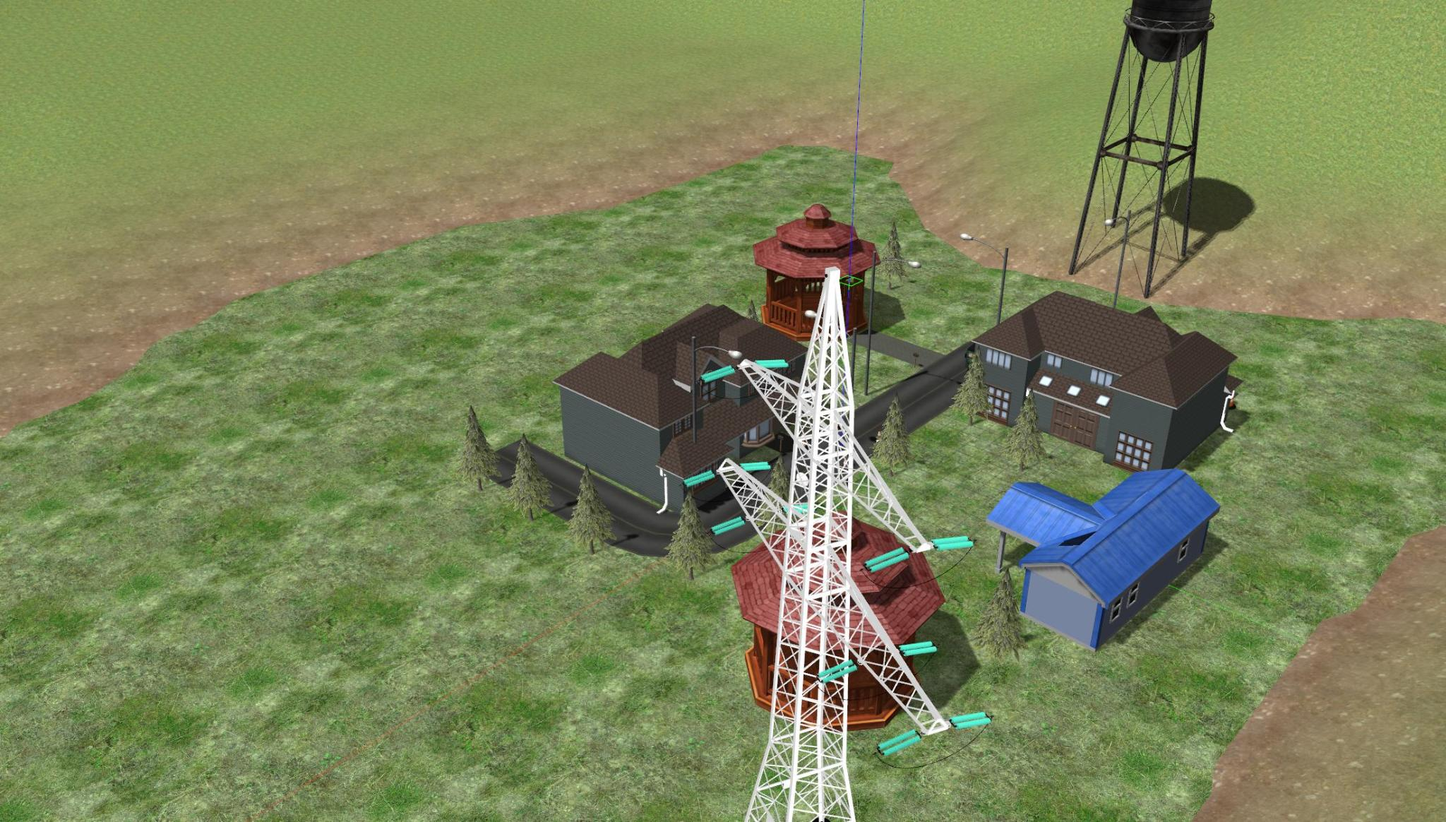tower: (710, 267, 952, 822)
